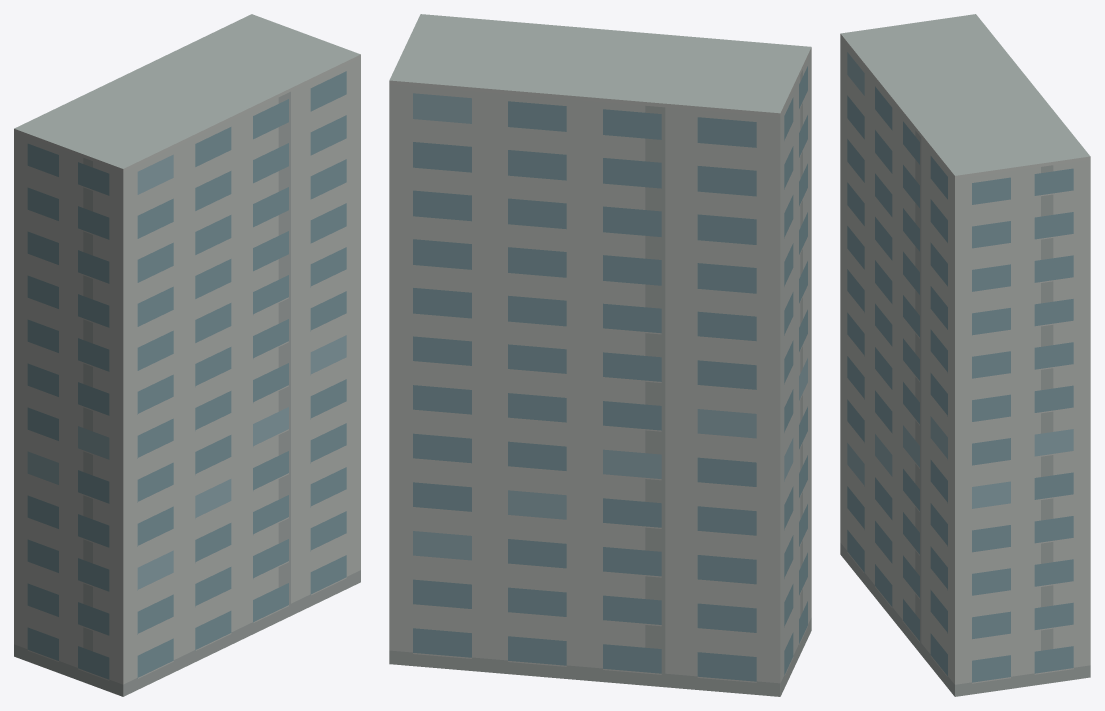
The model's file is residential-57ba0529-116b-4afc-a0b6-aae207d19d7f.glb.
3 views of the same model, side by side, from view 1: azimuth 30°, elevation 25°; view 2: azimuth 150°, elevation 25°; view 3: azimuth 270°, elevation 25° (orthographic). The views are drawn at different scales.
Visible parts, largest first — view 1: residential-57ba0529-116b-4afc-a0b6-aae207d19d7f.tmp; view 2: residential-57ba0529-116b-4afc-a0b6-aae207d19d7f.tmp; view 3: residential-57ba0529-116b-4afc-a0b6-aae207d19d7f.tmp.
Part boxes in pixels (bbox=[...]): residential-57ba0529-116b-4afc-a0b6-aae207d19d7f.tmp: bbox=[14, 14, 360, 696]; residential-57ba0529-116b-4afc-a0b6-aae207d19d7f.tmp: bbox=[389, 14, 811, 696]; residential-57ba0529-116b-4afc-a0b6-aae207d19d7f.tmp: bbox=[840, 14, 1090, 696].
Size of the model in its own units: 25.34 by 38 by 16.54.
